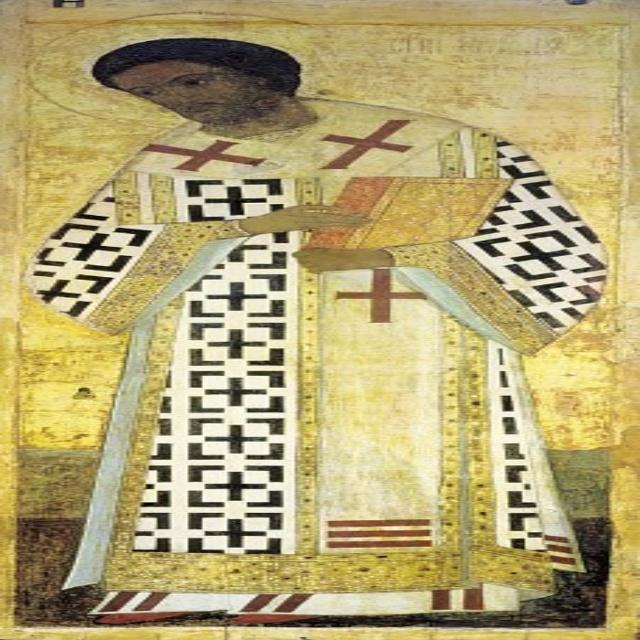aura: (31, 11, 382, 127)
book: (312, 174, 516, 265)
cross: (337, 269, 446, 329), (320, 116, 435, 172), (126, 137, 281, 172)
saint: (17, 9, 623, 630)
